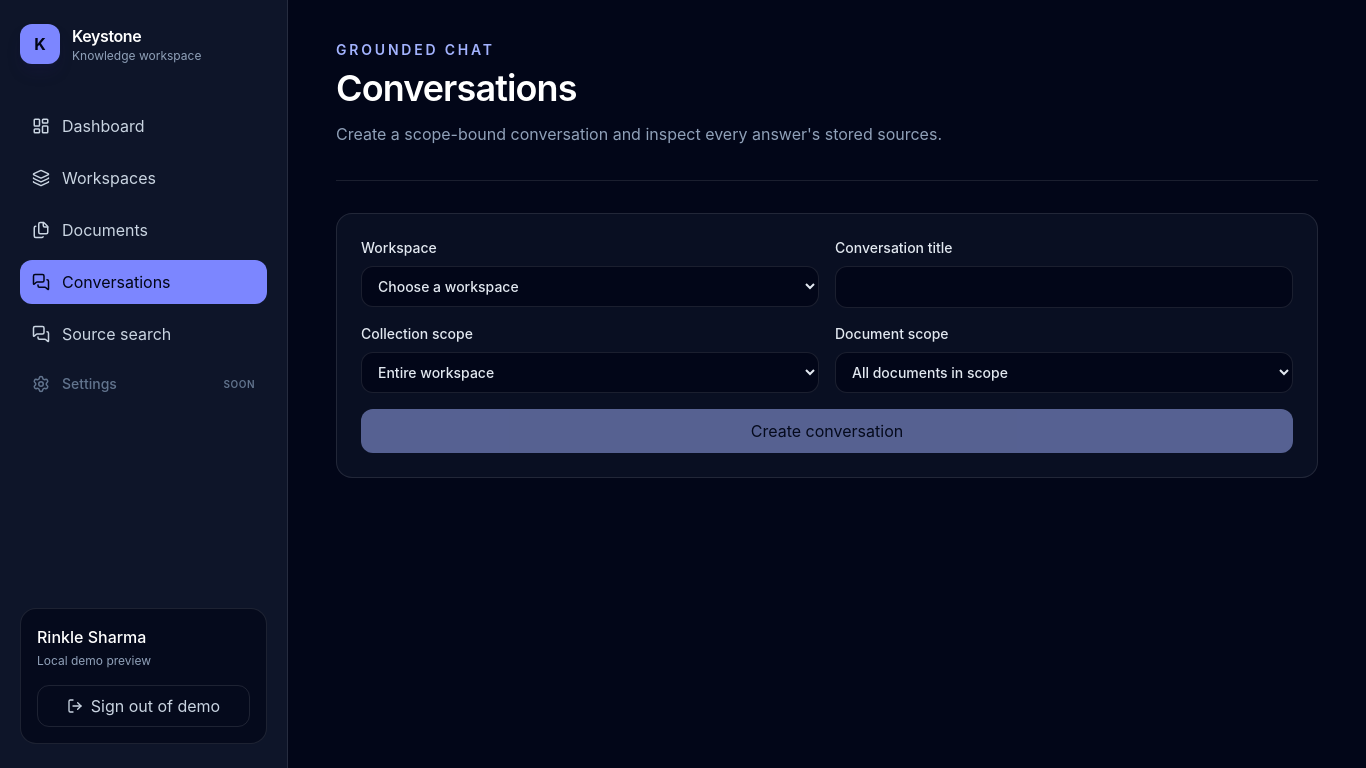
it: conversation routes › creates a workspace-scoped conversation and opens it
This screenshot has width=1366, height=768.
Select "Product research" in the dropdown labelled "Workspace" at (590, 286), box top-left (361, 266), bottom-right (819, 307)
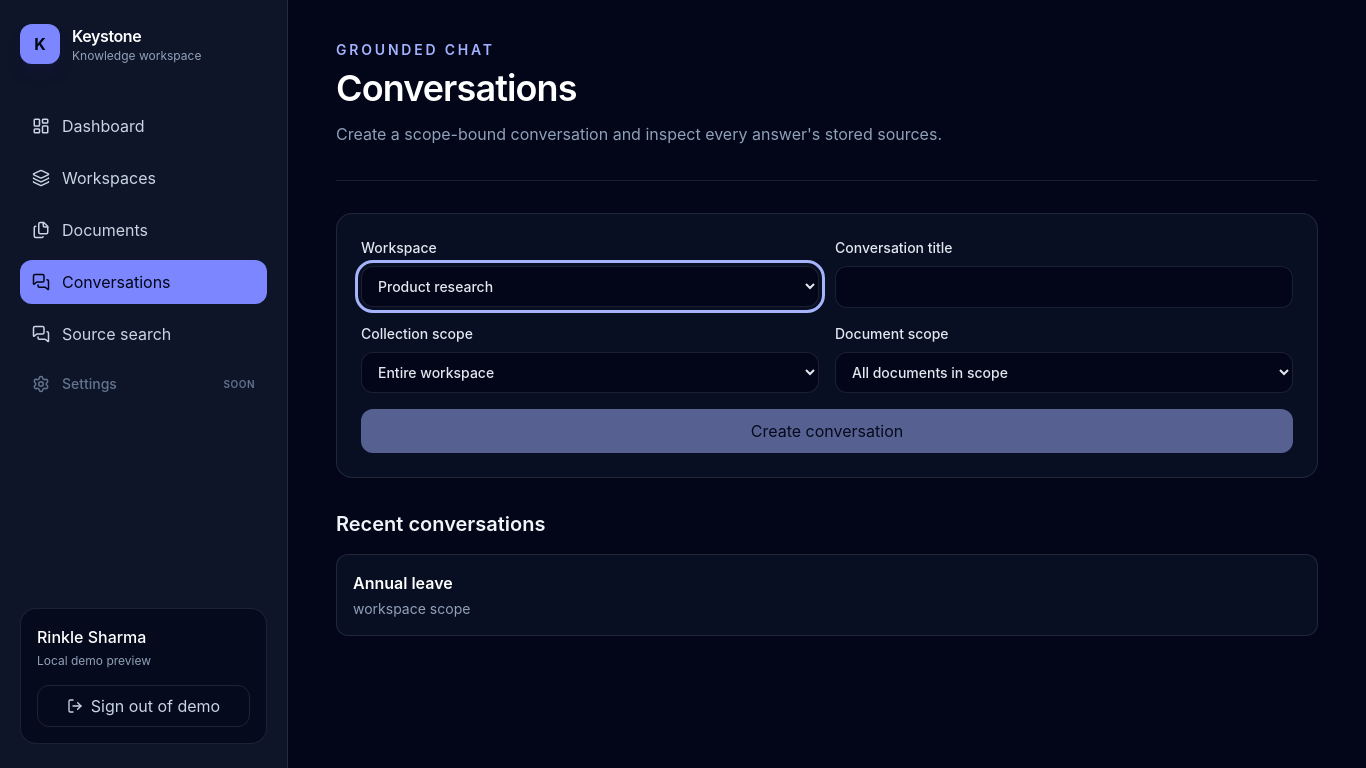
Type "Annual leave" into the field labelled "Conversation title" at (1064, 287), box top-left (835, 266), bottom-right (1293, 308)
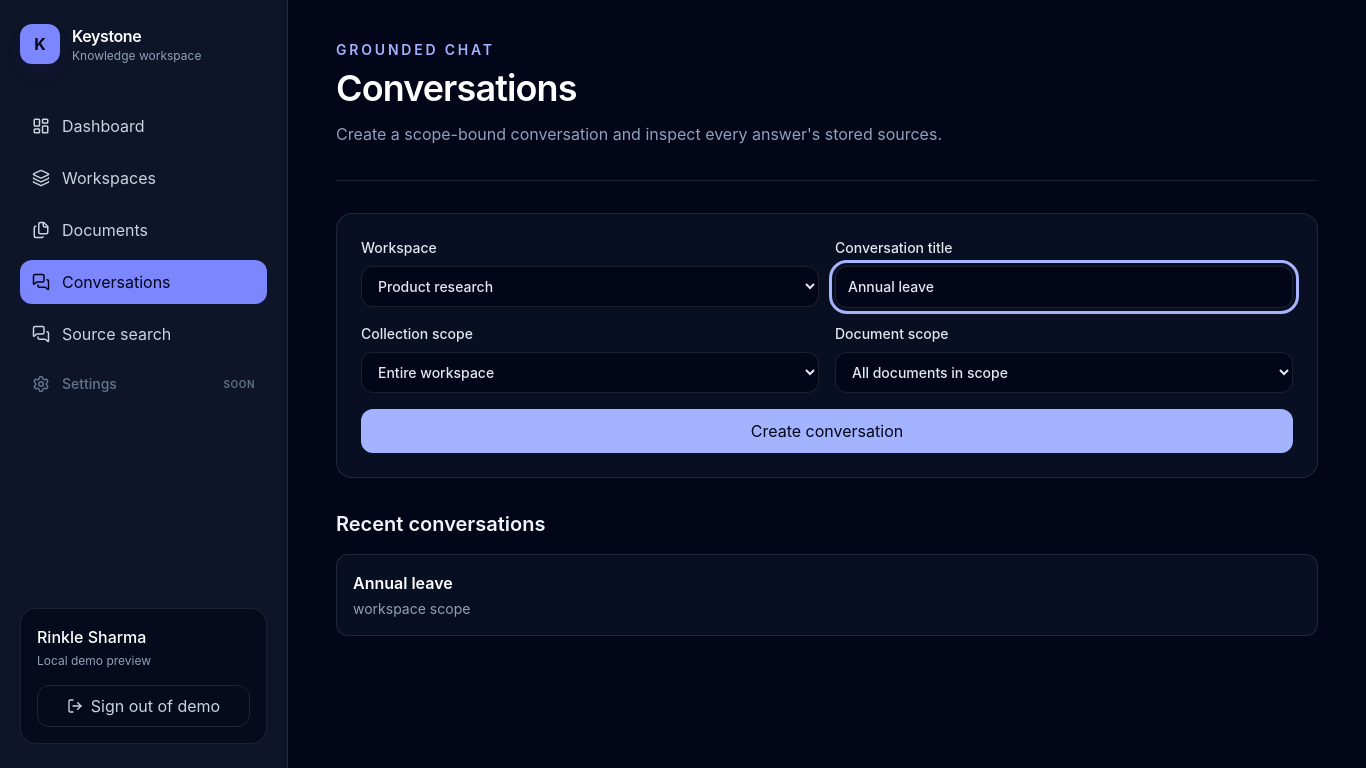
Click the button "Create conversation" at (827, 431), box top-left (361, 409), bottom-right (1293, 453)
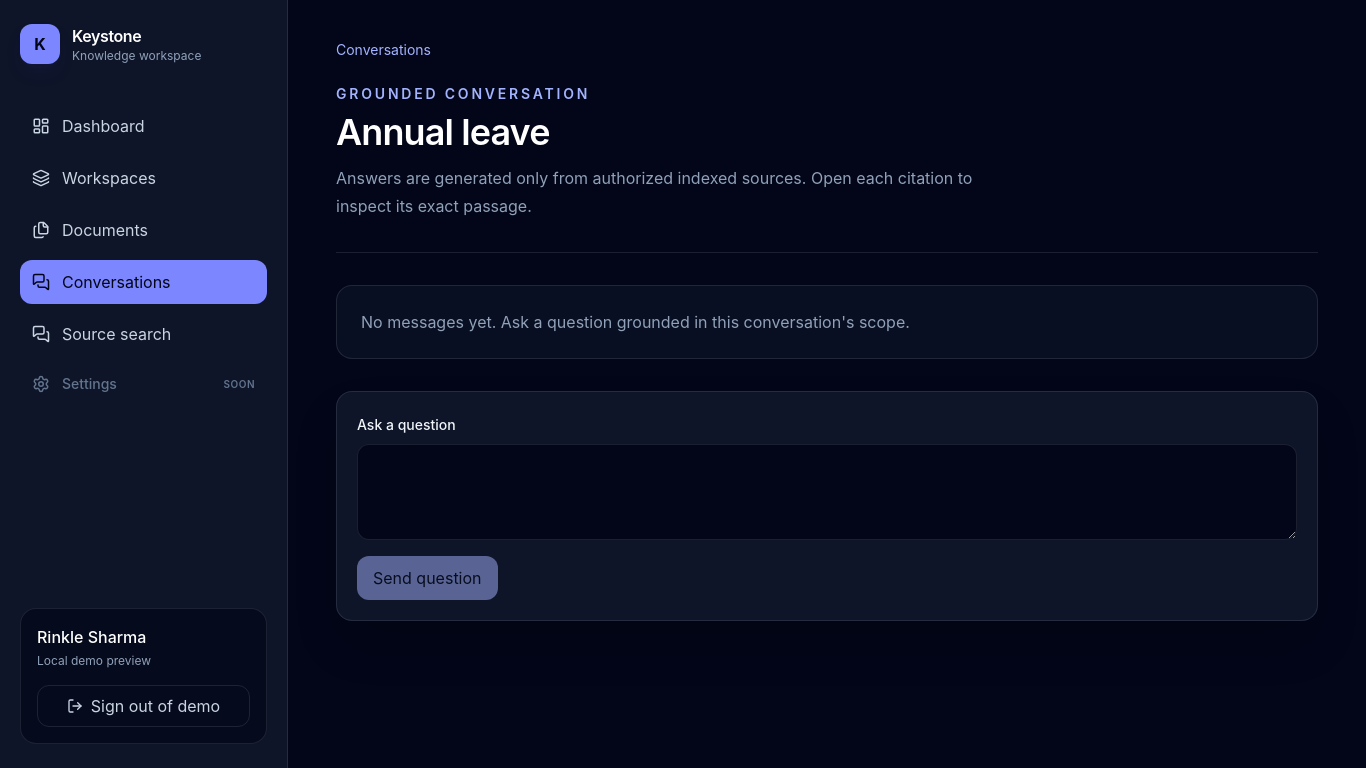
Check: the heading "Annual leave" is shown, box top-left (336, 110), bottom-right (550, 154)
